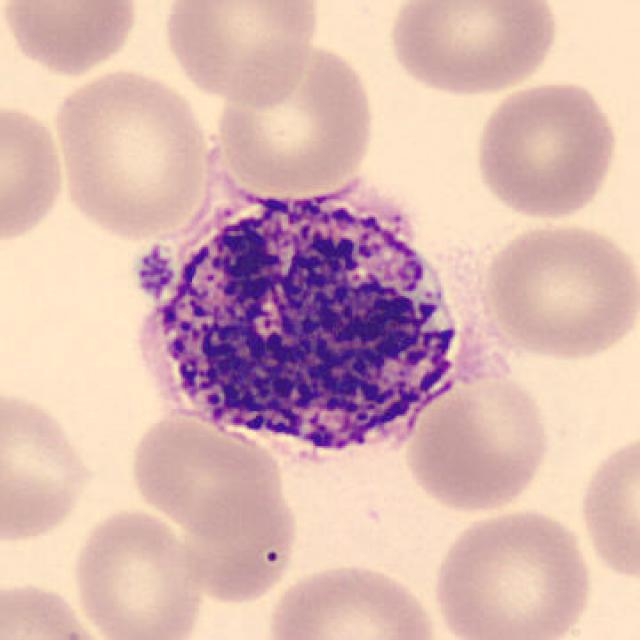Basophil: (115, 168, 492, 474)
RBC: (48, 64, 217, 244), (212, 39, 378, 197), (476, 215, 638, 365), (428, 502, 596, 640), (400, 367, 555, 515), (470, 76, 622, 224), (125, 408, 286, 542), (68, 504, 206, 640), (382, 0, 564, 99), (158, 0, 324, 108), (0, 384, 98, 546), (176, 481, 300, 605), (262, 557, 444, 640), (0, 0, 142, 78), (574, 427, 640, 585), (0, 98, 69, 248), (0, 576, 110, 640)
